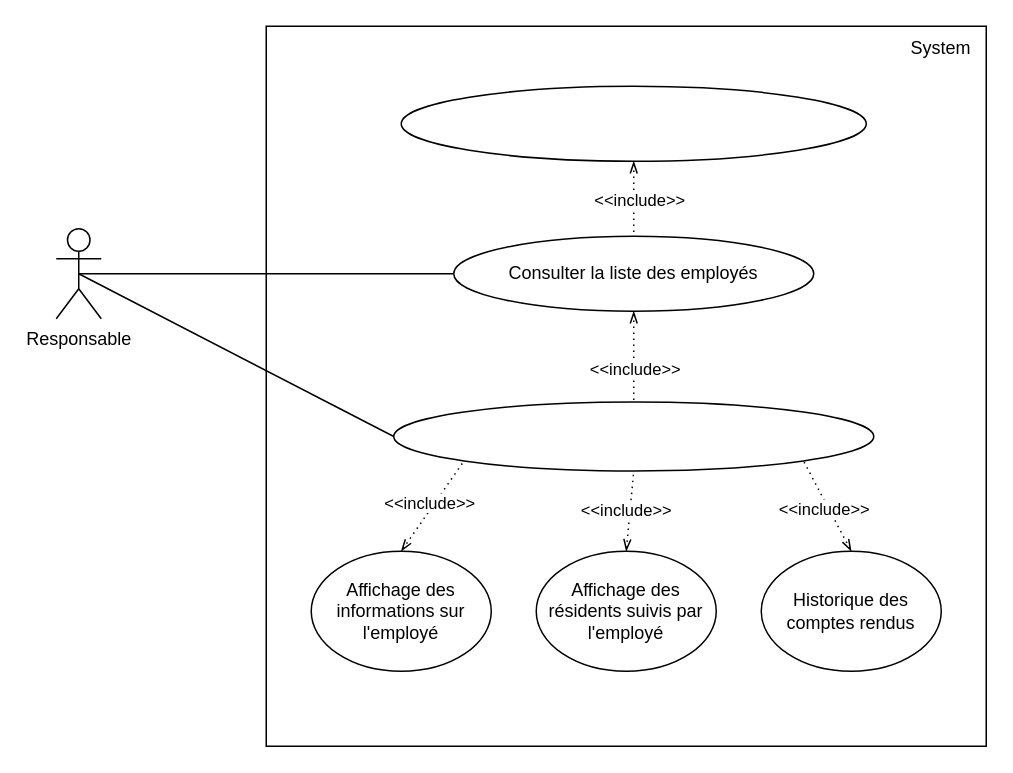
The diagram is 1013 pixels wide and 773 high, and some of its shapes have lost their labels. Each missing label, with the centre of its shape:
Cliquer sur le profil d'un employé: (633,435)
Connexion avec un compte Administrateur: (633,123)
